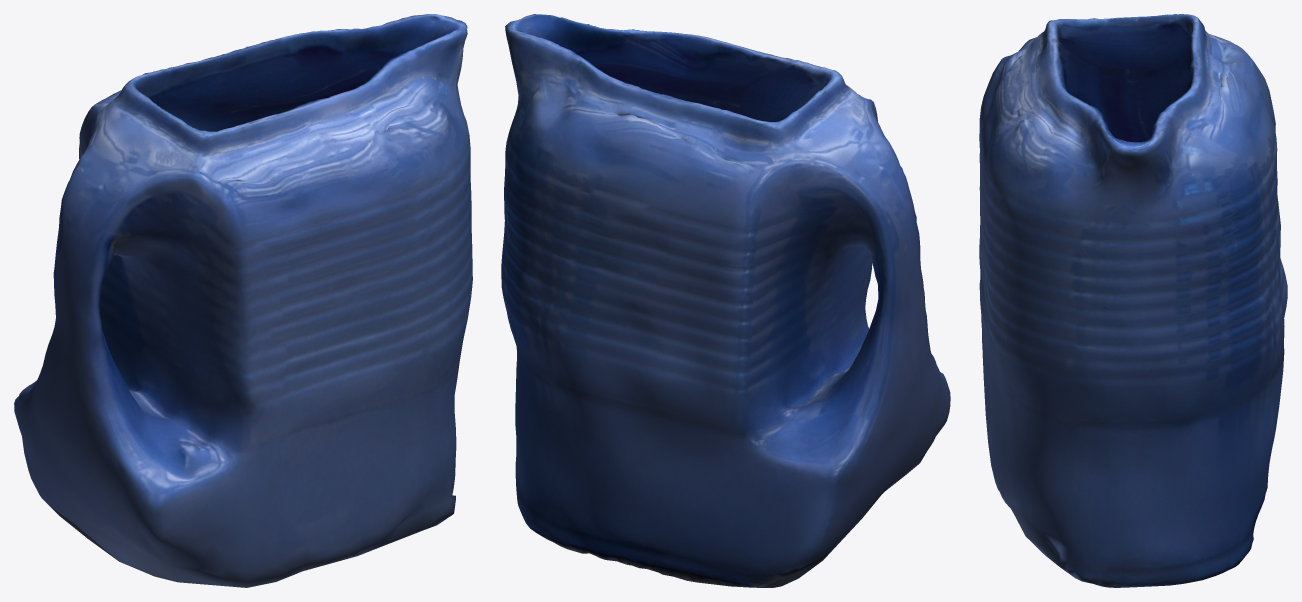
The model's file is art_deco_pitcher.glb.
3 views of the same model, side by side, from view 1: azimuth 30°, elevation 25°; view 2: azimuth 150°, elevation 25°; view 3: azimuth 270°, elevation 25° (orthographic). The views are drawn at different scales.
Visible parts, largest first — view 1: 3DModel; view 2: 3DModel; view 3: 3DModel.
Part boxes in pixels (x1=…): 3DModel: x1=14, y1=14, x2=472, y2=587; 3DModel: x1=501, y1=14, x2=950, y2=587; 3DModel: x1=979, y1=14, x2=1287, y2=587.
Bounding box in the file's own units: 0.1852 × 0.2091 × 0.1239.
Materials: 1 (1 with a texture image).
